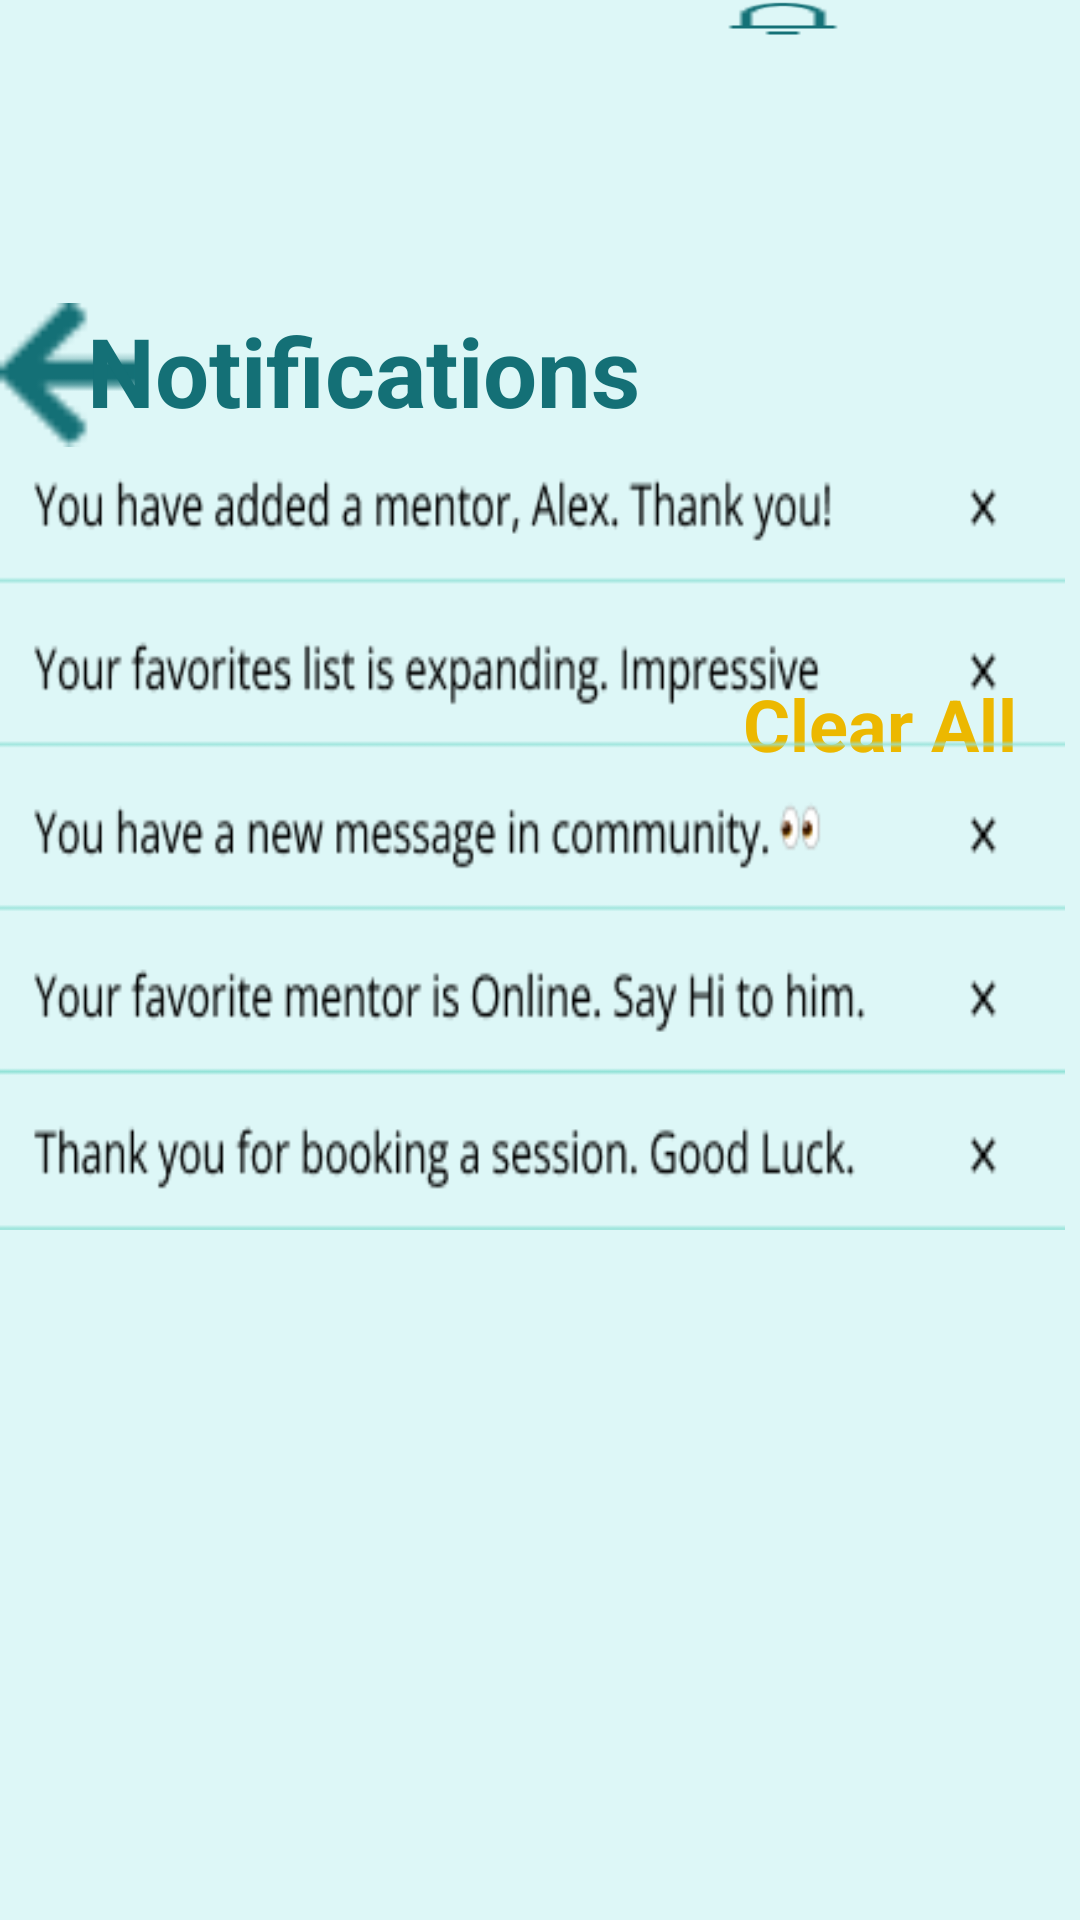

Locate icon controls on the screen. Image size 1080×1920, boxes as (x1, y1, x2, y2).
greenbell: (729, 2, 837, 35)
